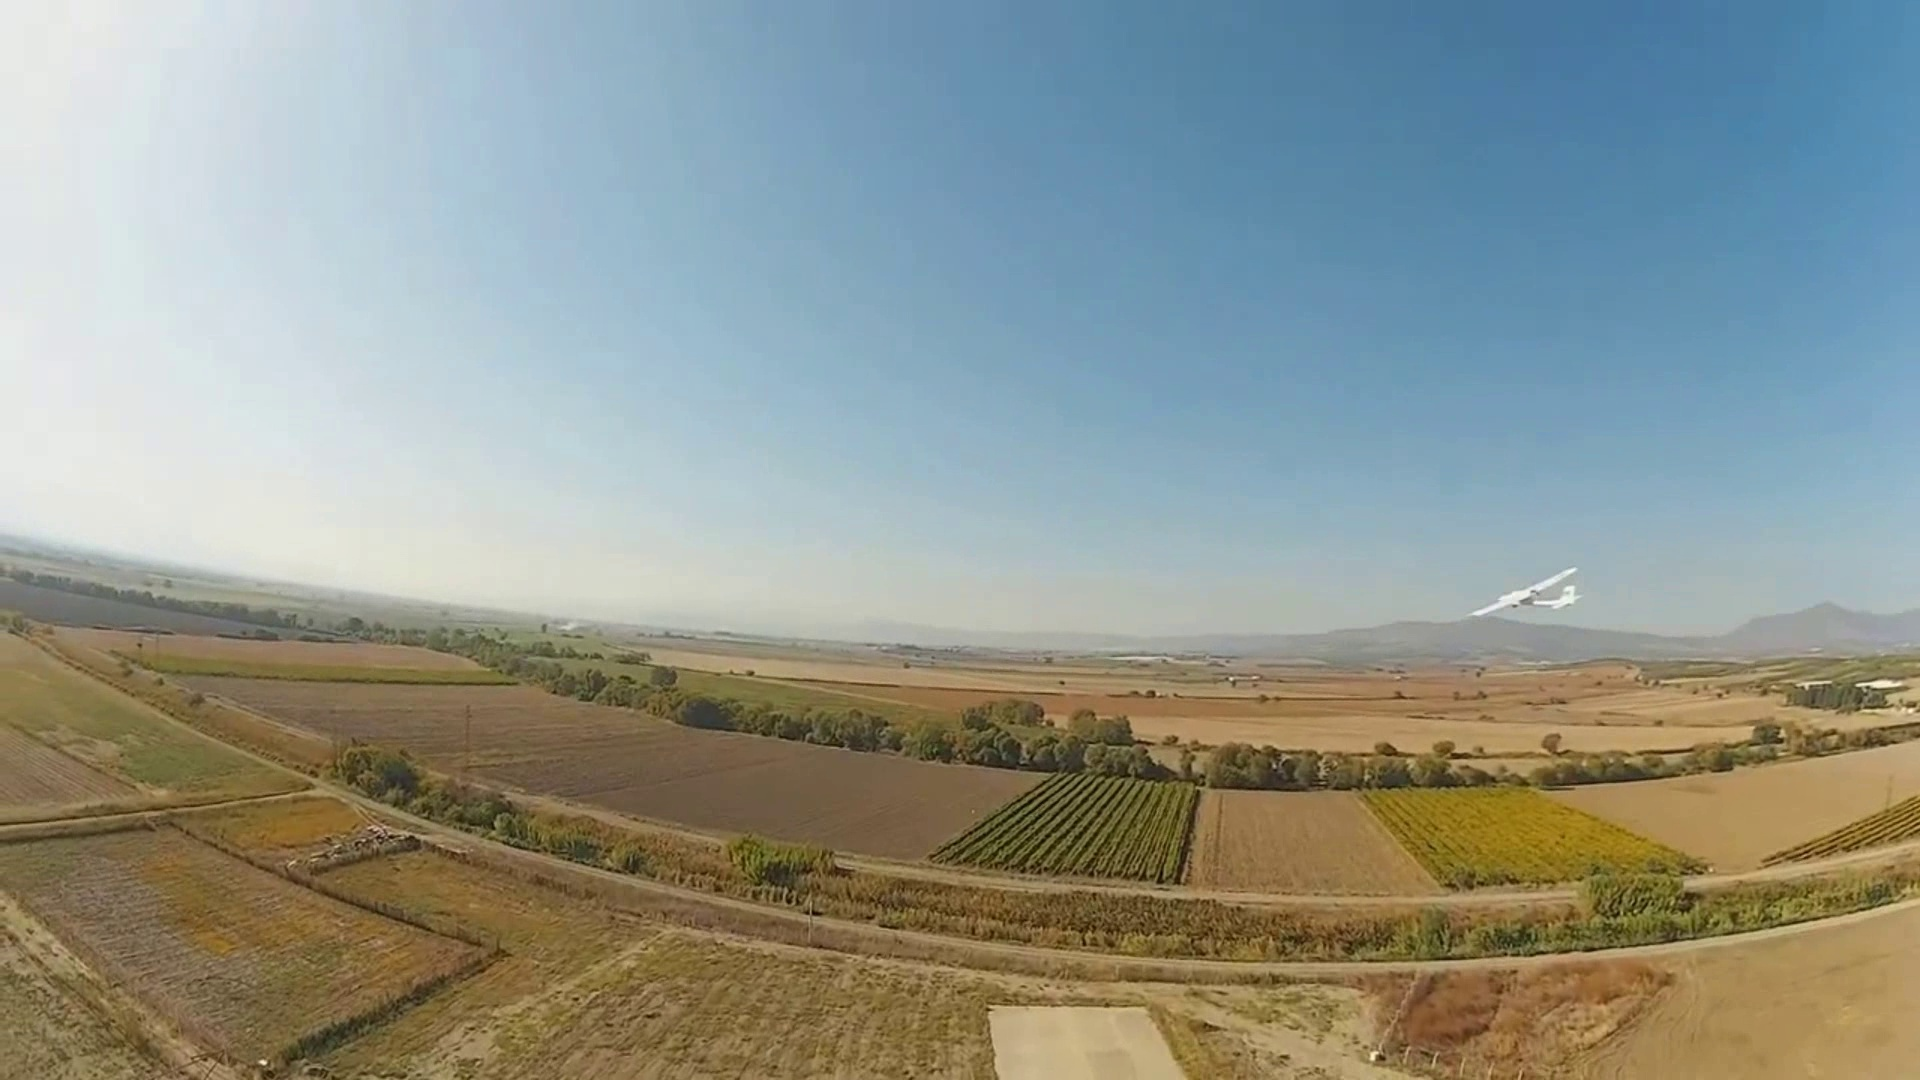airplane: (1469, 566, 1580, 615)
